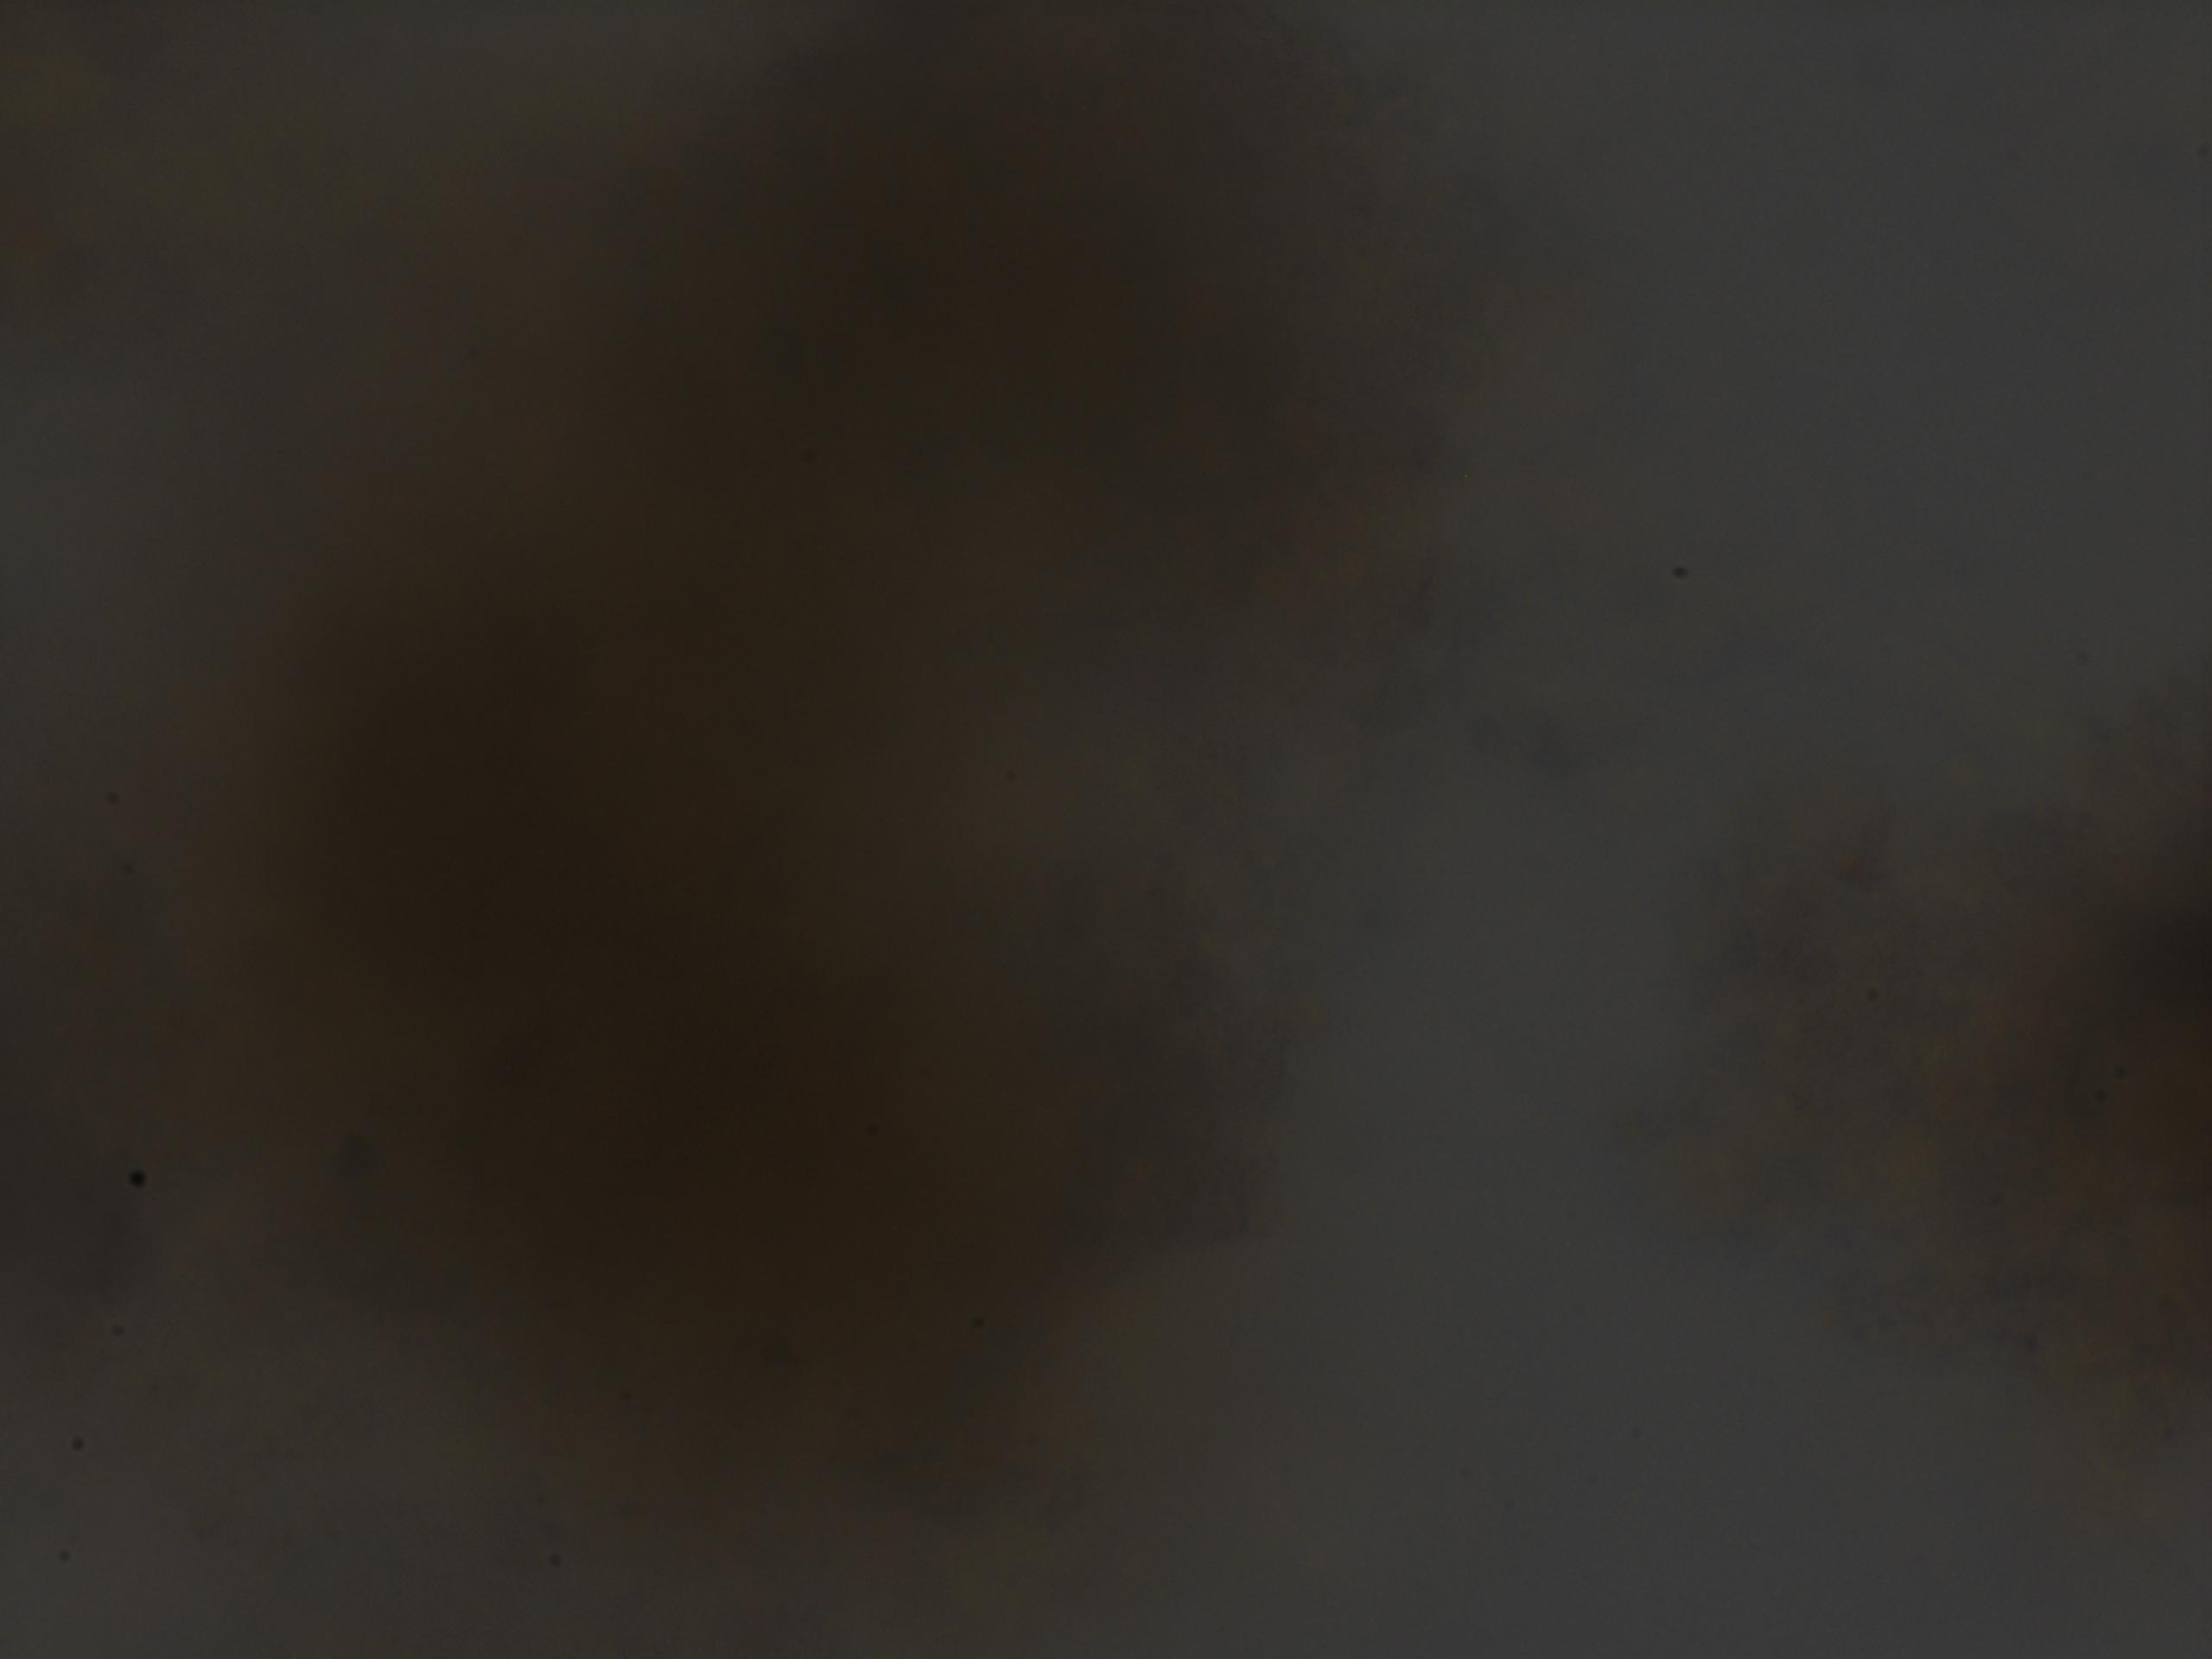spherical_floc: (235, 0, 1397, 1572)
